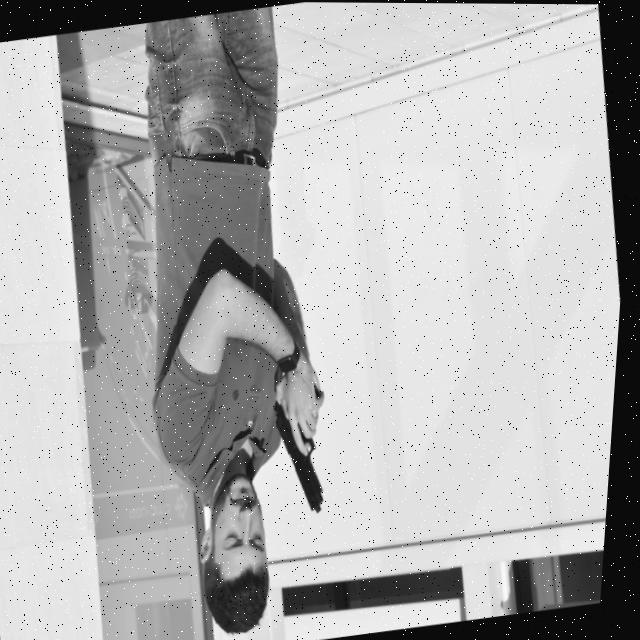pistol: (271, 398, 337, 518)
